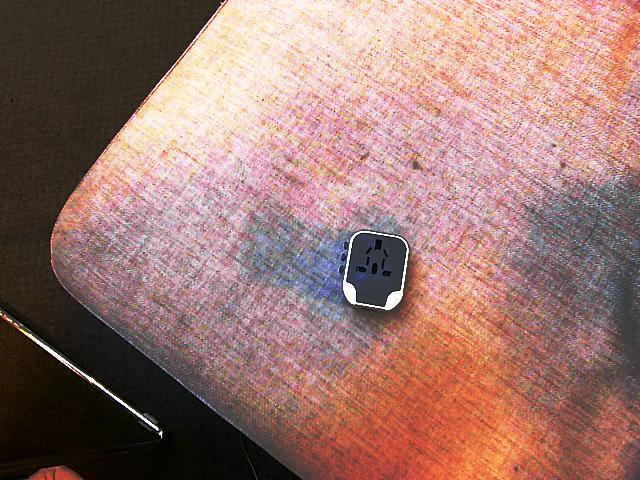adapter: (338, 229, 409, 311)
